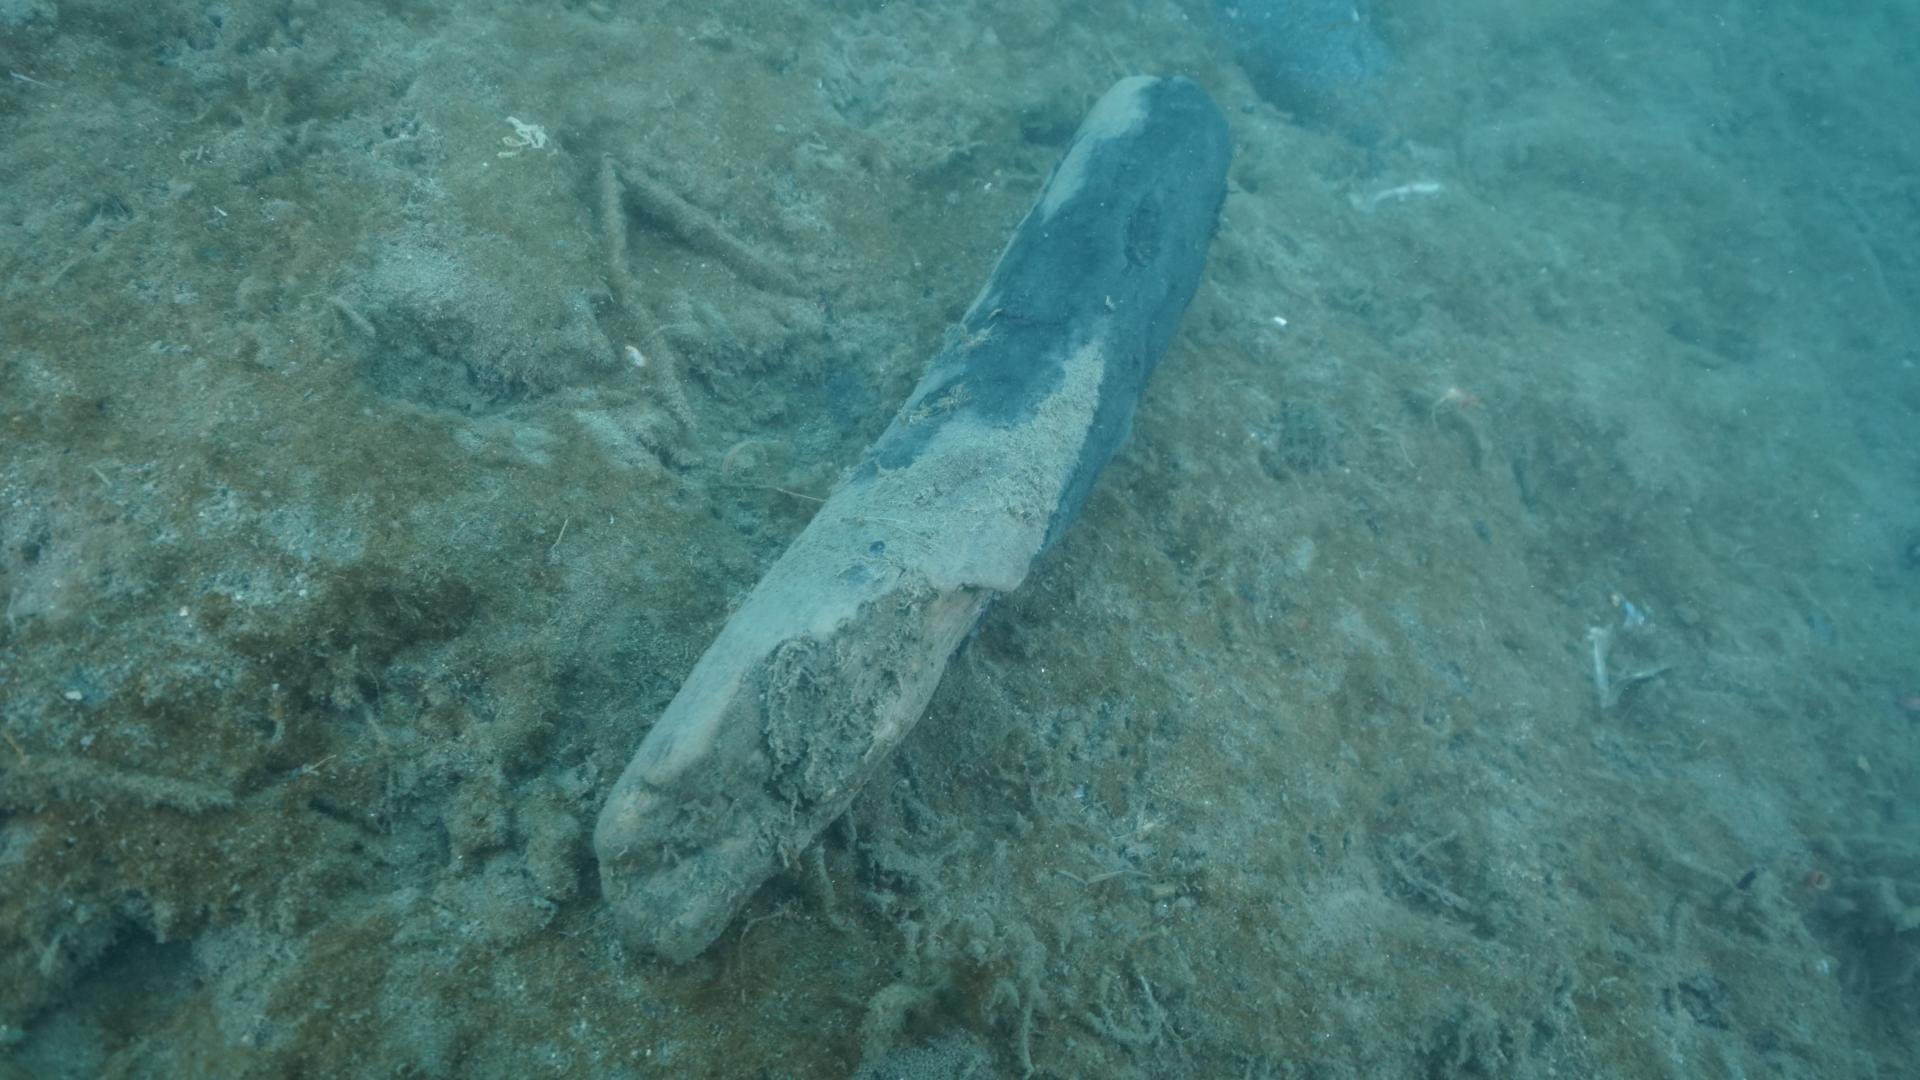wood: (589, 70, 1232, 967)
